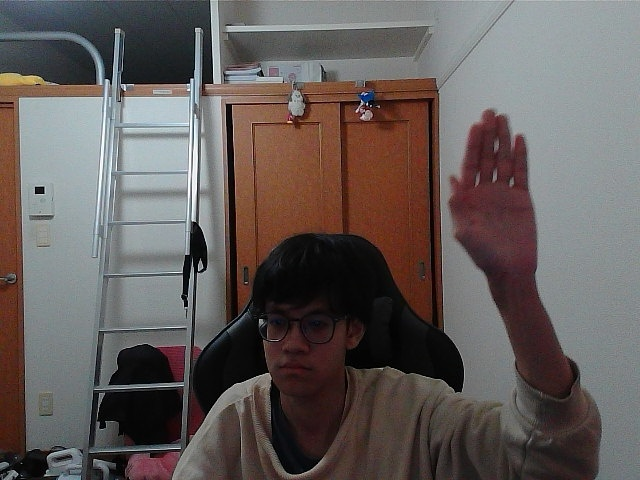open_palm: (455, 117, 521, 266)
